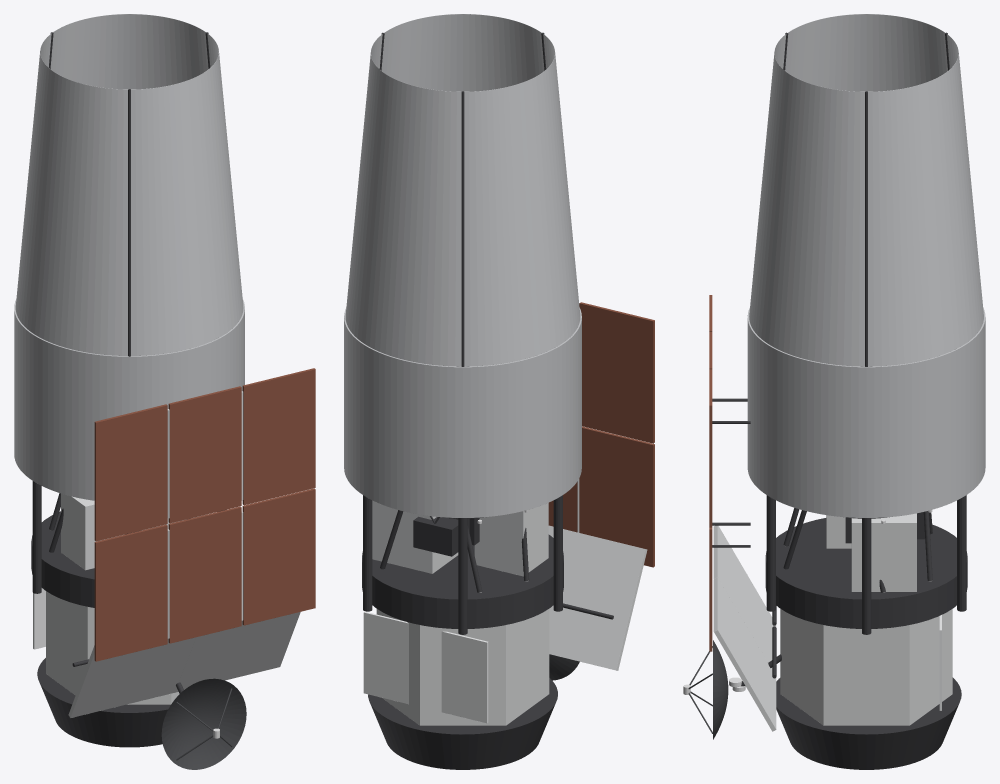
The model's file is roman.glb.
3 renders of one model, left to right at view 1: azimuth 30°, elevation 25°; view 2: azimuth 150°, elevation 25°; view 3: azimuth 270°, elevation 25°, orthographic. The views are drawn at different scales.
Parts seen in each view (by area): view 1: DAC.Membrane, OBA.Barrel, SASS.Outer.NX.1, SASS.Outer.NX.2, SASS.Outer.PX.1, SASS.Centre.1, SASS.Outer.PX.2, SASS.Centre.2, HGA.Dish, LISS.Panel.2, LISS.Panel.1, LVA.Adapter (+6 smaller); view 2: DAC.Membrane, OBA.Barrel, BUS.Hex, IC.Deck, LISS.Panel.2, SASS.Outer.NX.2, SASS.Outer.NX.1, BUS.Radiator, LVA.Adapter, CGI.Body, WFI.Body, TOMA.Structure (+6 smaller); view 3: DAC.Membrane, OBA.Barrel, BUS.Hex, IC.Deck, LVA.Adapter, WFI.Body, LISS.Panel.1, LISS.Panel.2, OBA.StandLeg.1, OBA.StandLeg.6, OBA.StandLeg.2, HGA.Dish (+3 smaller).
Boxes of the visible parts, x1,y1,x2,y2 form: DAC.Membrane: (15, 14, 243, 355); OBA.Barrel: (14, 299, 244, 500); SASS.Outer.NX.1: (94, 524, 167, 661); SASS.Outer.NX.2: (94, 404, 167, 541); SASS.Outer.PX.1: (242, 488, 315, 625); SASS.Centre.1: (168, 506, 241, 643); SASS.Outer.PX.2: (242, 368, 315, 505); SASS.Centre.2: (168, 386, 241, 523); HGA.Dish: (161, 678, 246, 769); LISS.Panel.2: (68, 637, 195, 717); LISS.Panel.1: (175, 612, 300, 692); LVA.Adapter: (37, 658, 170, 747); DAC.Membrane: (345, 14, 580, 366); OBA.Barrel: (344, 308, 581, 517); BUS.Hex: (376, 609, 549, 725); IC.Deck: (362, 534, 563, 628); LISS.Panel.2: (548, 525, 647, 670); SASS.Outer.NX.2: (579, 302, 654, 443); SASS.Outer.NX.1: (579, 426, 654, 567); BUS.Radiator: (363, 611, 488, 723); LVA.Adapter: (368, 678, 557, 769); CGI.Body: (474, 503, 548, 576); WFI.Body: (372, 500, 458, 573); TOMA.Structure: (413, 516, 469, 556); DAC.Membrane: (749, 14, 983, 366); OBA.Barrel: (747, 308, 985, 517); BUS.Hex: (780, 609, 952, 725); IC.Deck: (765, 518, 967, 628); LVA.Adapter: (776, 677, 961, 769); WFI.Body: (851, 513, 916, 591); LISS.Panel.1: (713, 577, 776, 731); LISS.Panel.2: (713, 525, 776, 669); OBA.StandLeg.1: (862, 518, 871, 634); OBA.StandLeg.6: (766, 495, 775, 611); OBA.StandLeg.2: (957, 495, 966, 611); HGA.Dish: (713, 640, 728, 739).
Size of the model in its own units: 4.4 by 12.7 by 5.08.
